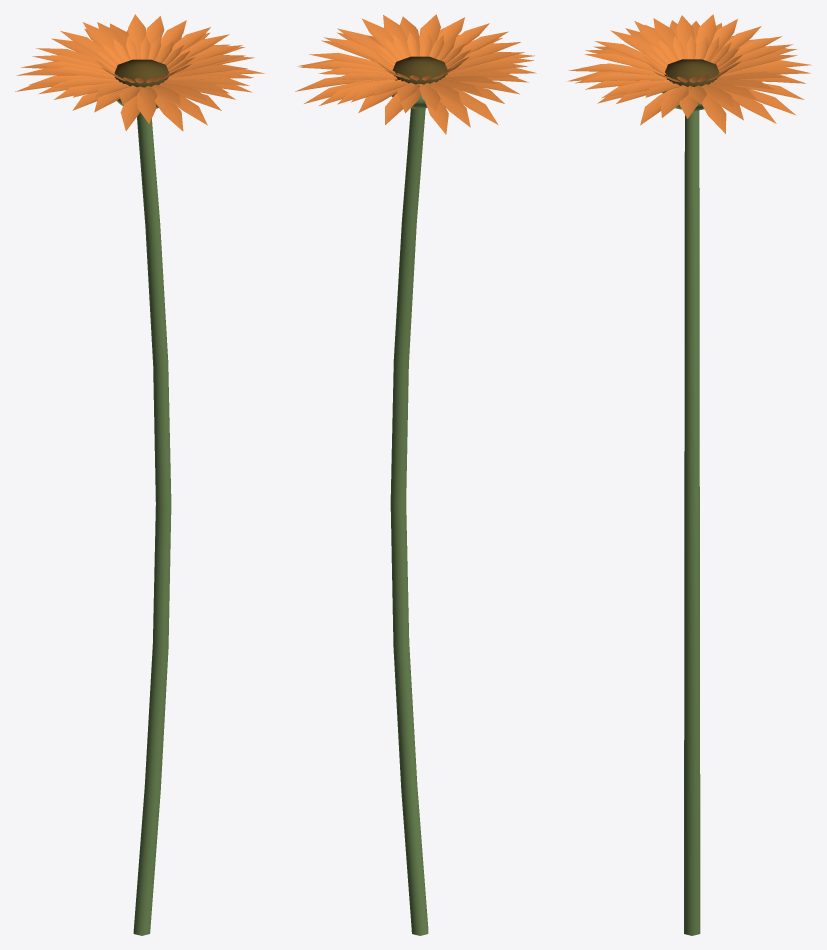
The model's file is gerbera.glb.
3 renders of one model, left to right at view 1: azimuth 30°, elevation 25°; view 2: azimuth 150°, elevation 25°; view 3: azimuth 270°, elevation 25°, orthographic.
Parts seen in each view (by area): view 1: gerbera; view 2: gerbera; view 3: gerbera.
Boxes of the visible parts, bbox=[...] form: gerbera: bbox=[15, 14, 264, 935]; gerbera: bbox=[295, 14, 536, 935]; gerbera: bbox=[566, 14, 811, 935].
Size of the model in its own units: 0.0869 by 0.3472 by 0.0884.
